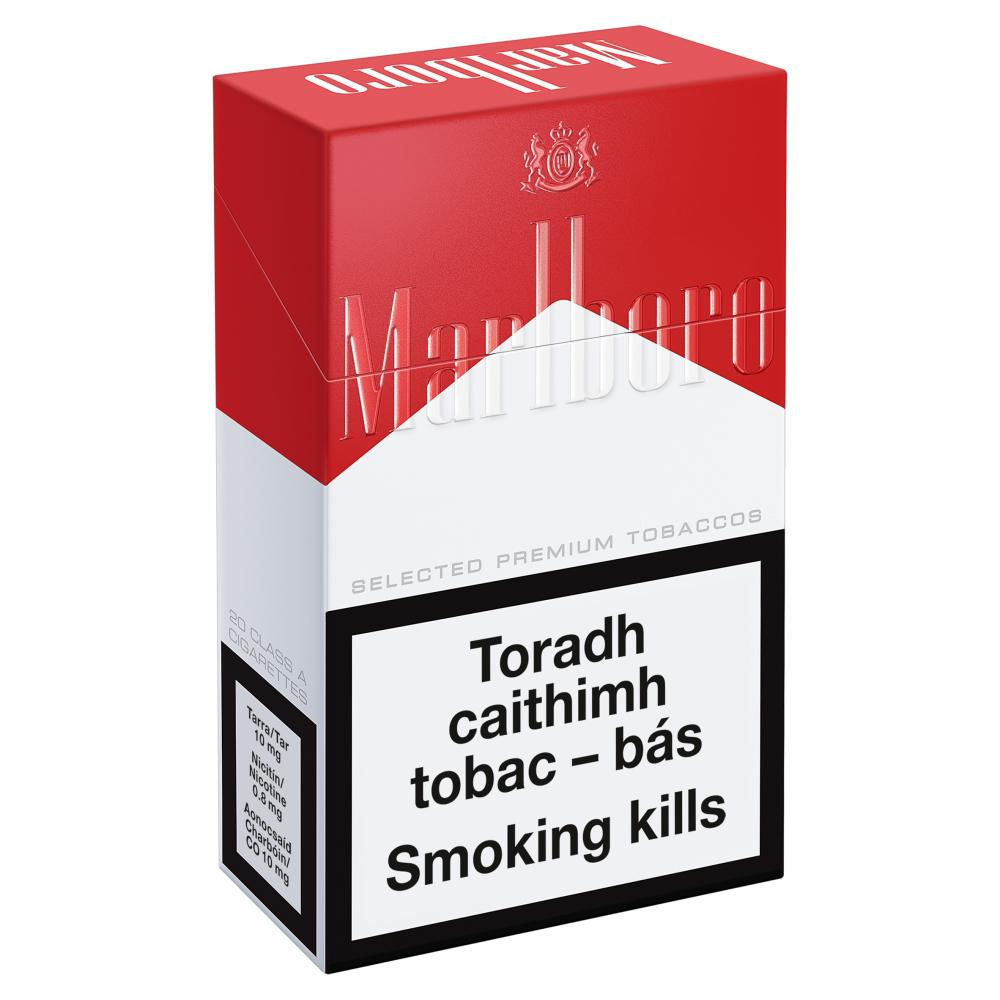marlboro_red: (334, 115, 784, 881)
